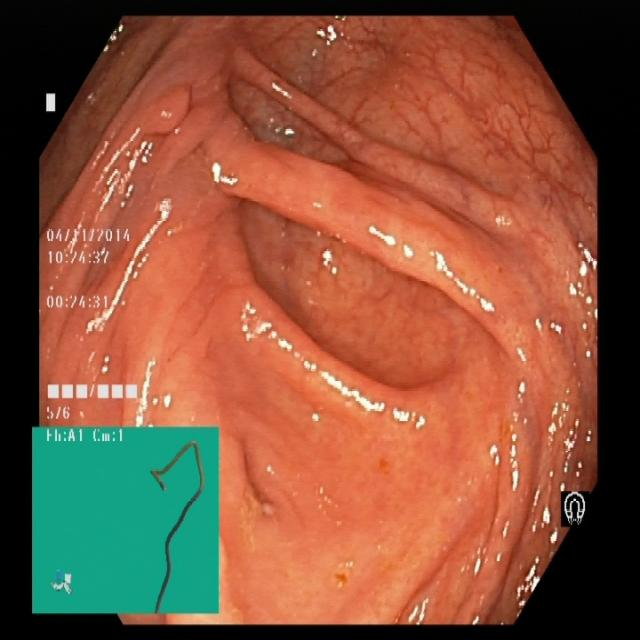normal-cecum: (130, 69, 213, 154), (228, 442, 288, 556)
